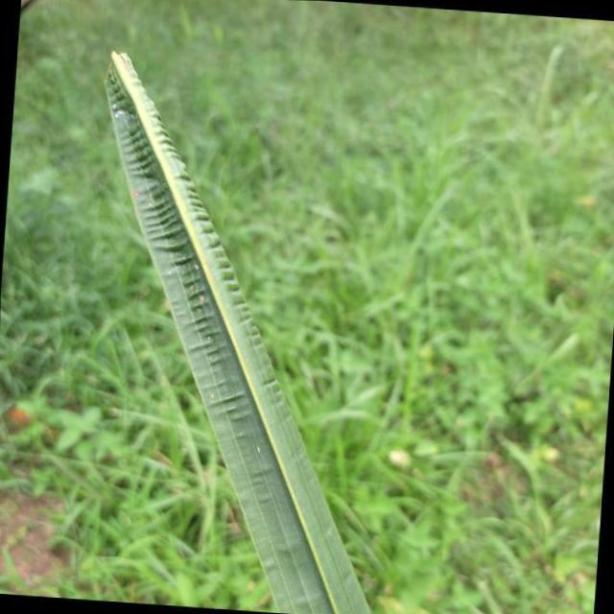Boron: (96, 40, 369, 614)
